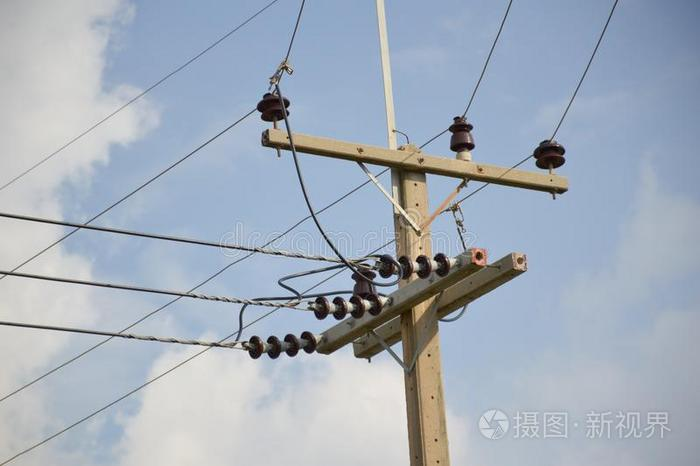insulator: (378, 253, 454, 281), (246, 330, 318, 359), (310, 296, 382, 318), (531, 142, 570, 170), (252, 94, 292, 121)
